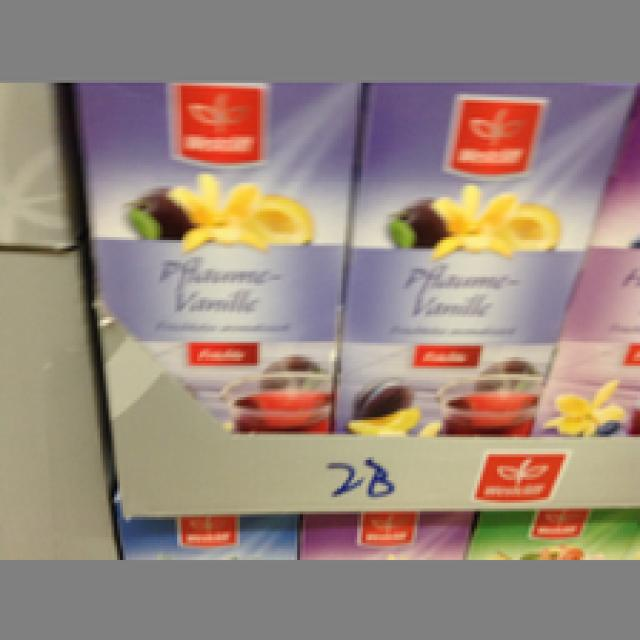groceries: (332, 83, 632, 431), (68, 83, 352, 431)
